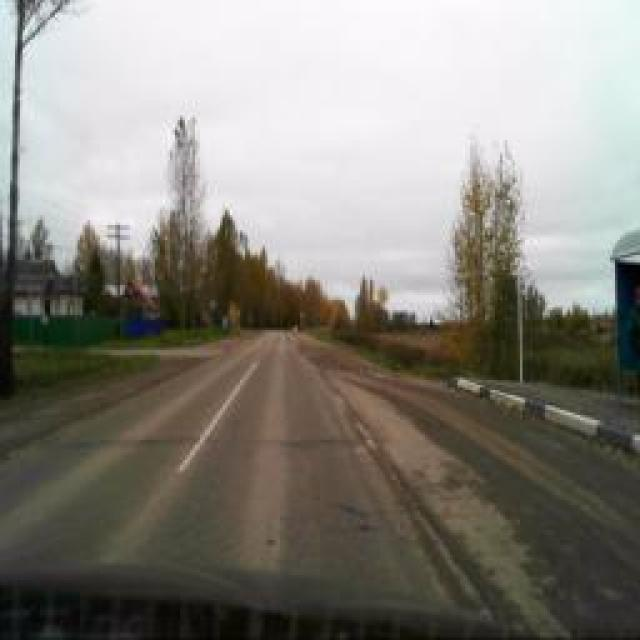sign: (376, 285, 389, 307)
